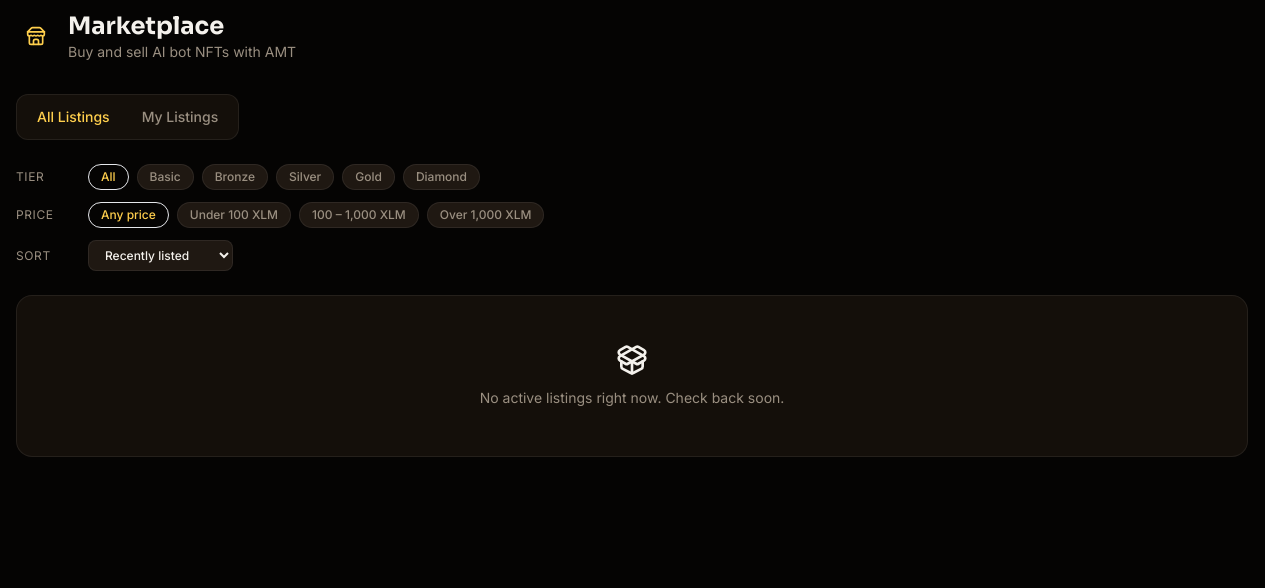
Test: Marketplace Page Integration (#499) › shows the no-owned-bots state when the user has none to list
Click the tab "My Listings" at (180, 117), box [126, 99, 234, 135]
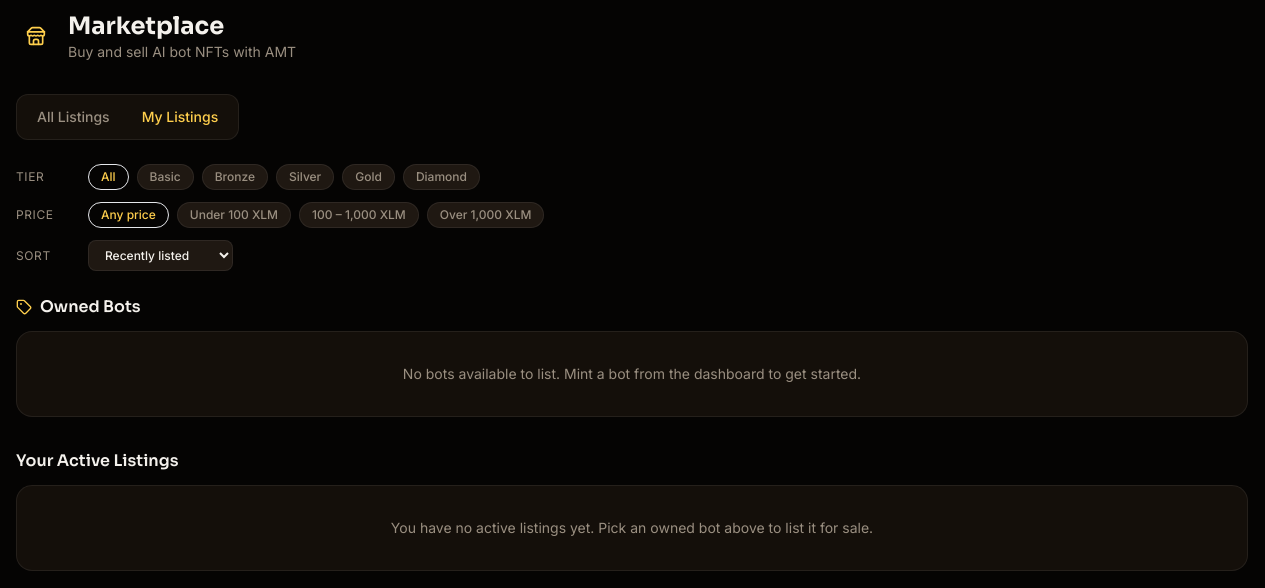
expect the text with test id "marketplace-no-owned" is shown: met, box [16, 331, 1248, 417]
expect the text with test id "marketplace-mine-empty" is shown: met, box [16, 485, 1248, 571]
